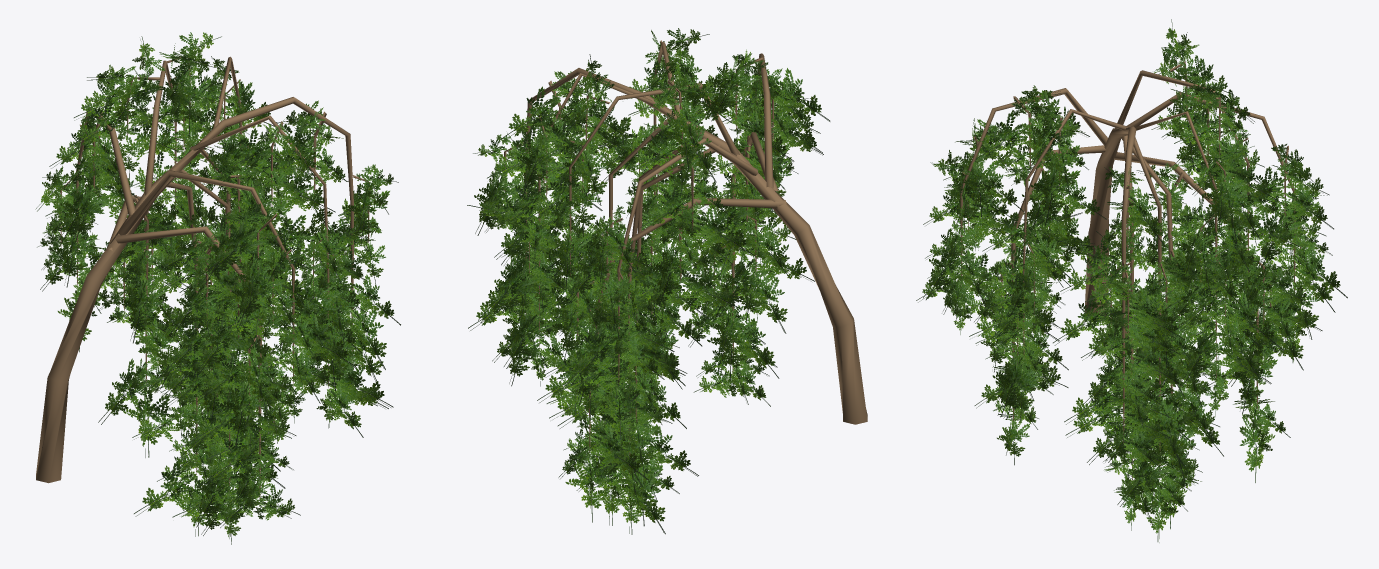
File: willow-lod1.glb
3 views of the same model, side by side, from view 1: azimuth 30°, elevation 25°; view 2: azimuth 150°, elevation 25°; view 3: azimuth 270°, elevation 25° (orthographic). The views are drawn at different scales.
Parts seen in each view (by area): view 1: leaf cards, branches; view 2: leaf cards, branches; view 3: leaf cards, branches.
Boxes of the visible parts, bbox=[...] form: leaf cards: bbox=[35, 32, 400, 544]; branches: bbox=[36, 56, 369, 498]; leaf cards: bbox=[467, 28, 830, 534]; branches: bbox=[504, 40, 867, 455]; leaf cards: bbox=[916, 19, 1347, 542]; branches: bbox=[960, 61, 1300, 480].
Bounding box in the file's own units: 7.15 × 9.35 × 7.95.
2 materials, 1 textured.
